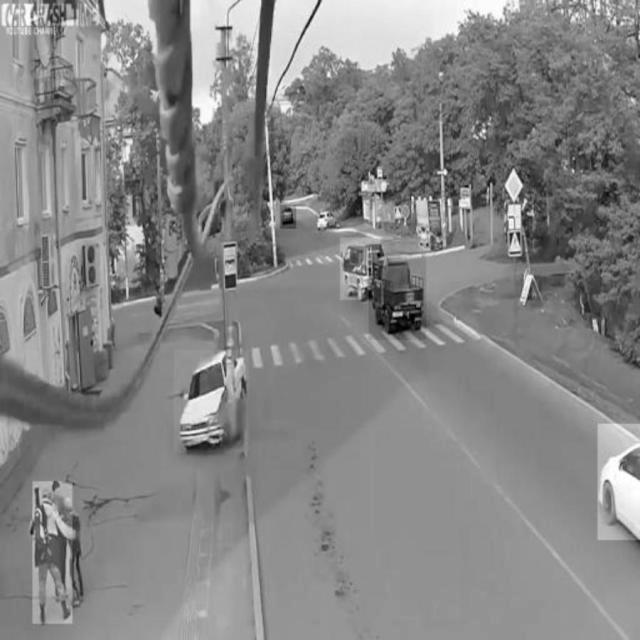accident: (174, 350, 248, 452)
person: (34, 482, 74, 624)
vehicle: (369, 253, 426, 341), (598, 424, 640, 540), (340, 238, 380, 300), (315, 207, 339, 232), (280, 205, 296, 229)
